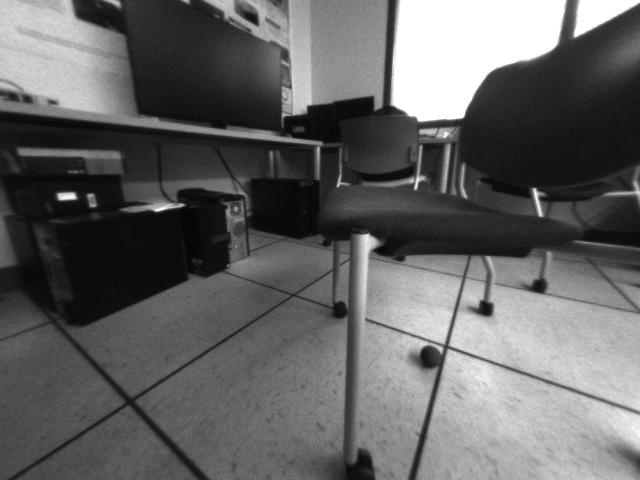dogtoy: (415, 339, 444, 370)
